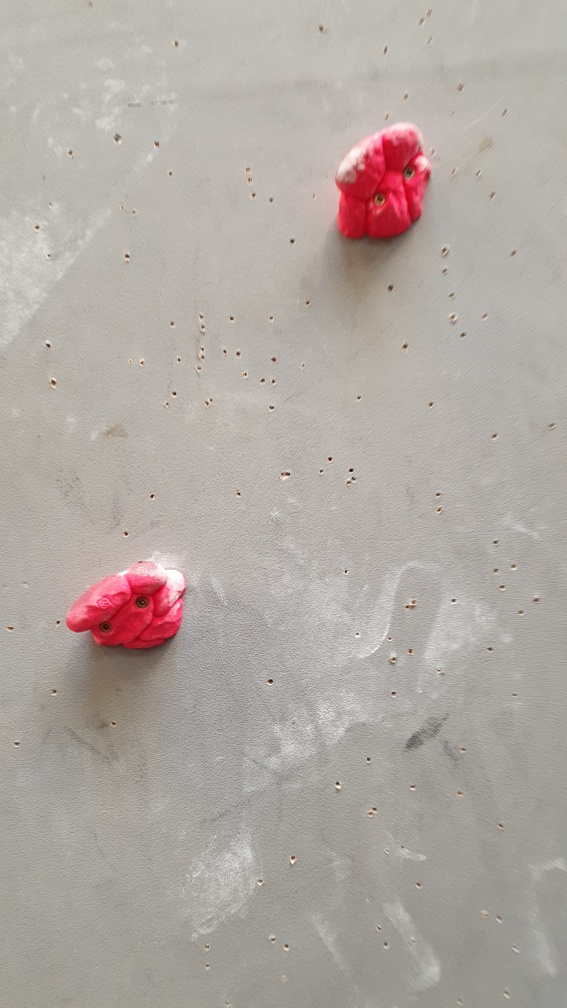Jug: (331, 117, 433, 245), (62, 555, 192, 655)
